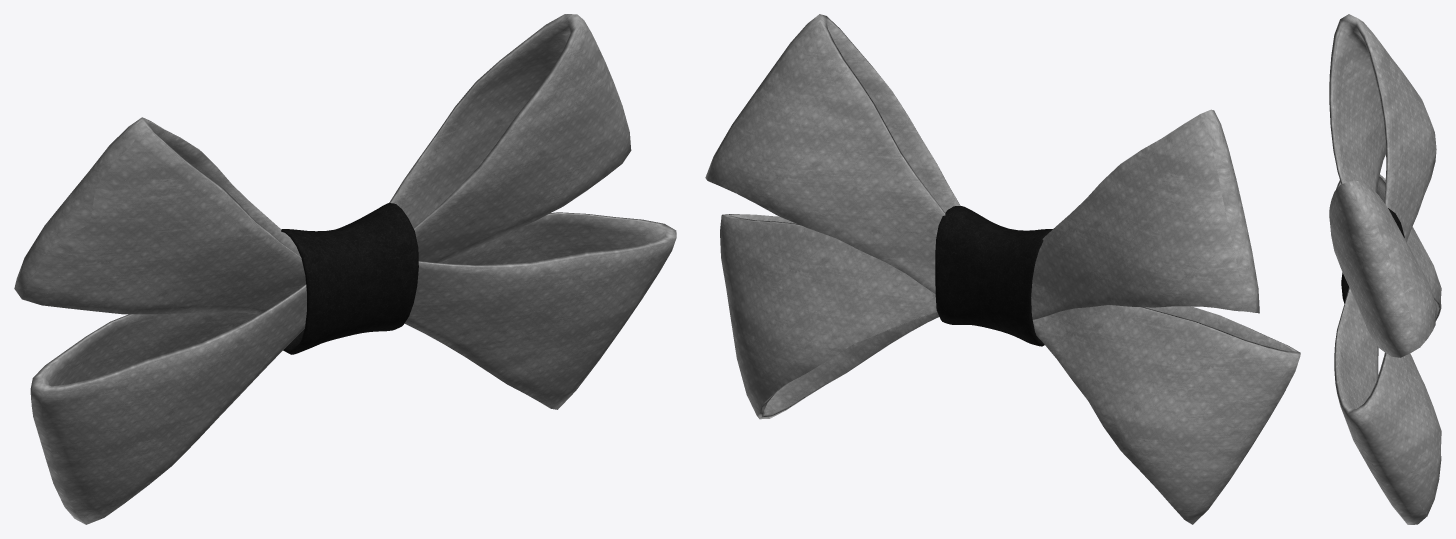
The model's file is Umm.glb.
3 views of the same model, side by side, from view 1: azimuth 30°, elevation 25°; view 2: azimuth 150°, elevation 25°; view 3: azimuth 270°, elevation 25° (orthographic). The views are drawn at different scales.
Parts seen in each view (by area): view 1: RIBBON2_RIBBON2_0, RIBBON4_RIBBON4_0, PM3D_Sphere3D2_PM3D_Sphere3D2_0; view 2: RIBBON2_RIBBON2_0, RIBBON4_RIBBON4_0, PM3D_Sphere3D2_PM3D_Sphere3D2_0; view 3: RIBBON2_RIBBON2_0, RIBBON4_RIBBON4_0, PM3D_Sphere3D2_PM3D_Sphere3D2_0.
Part boxes in pixels (x1,y1,x2,y2): RIBBON2_RIBBON2_0: (14,14,631,314); RIBBON4_RIBBON4_0: (30,212,676,524); PM3D_Sphere3D2_PM3D_Sphere3D2_0: (281,203,418,354); RIBBON2_RIBBON2_0: (705,14,1259,319); RIBBON4_RIBBON4_0: (720,214,1300,524); PM3D_Sphere3D2_PM3D_Sphere3D2_0: (935,206,1052,346); RIBBON2_RIBBON2_0: (1329,14,1436,357); RIBBON4_RIBBON4_0: (1334,174,1441,524); PM3D_Sphere3D2_PM3D_Sphere3D2_0: (1341,208,1404,303).
Size of the model in its own units: 4.26 by 2.7 by 0.8166.
Materials: 2 (2 with a texture image).
